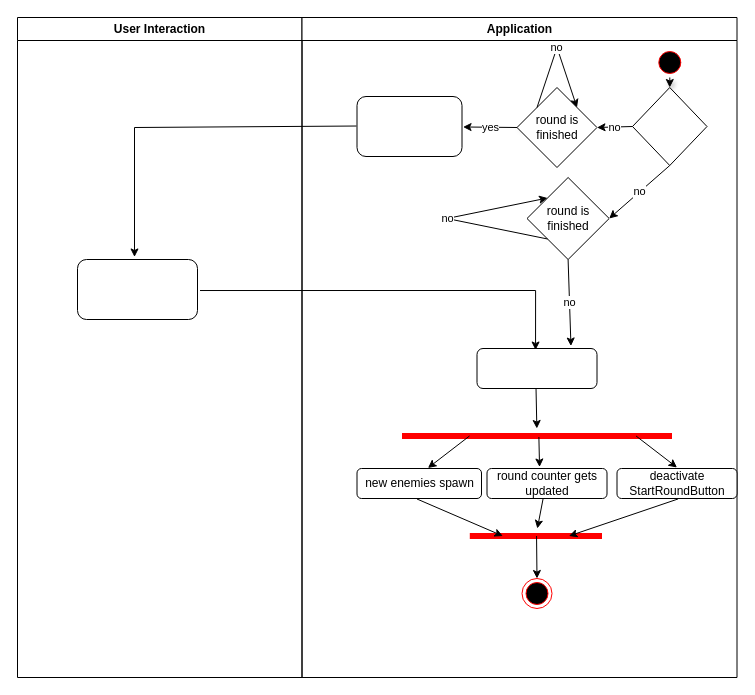
The diagram is 755 pixels wide and 695 high, and some of its shapes have lost their labels. Each missing label, with the centre of its shape:
"activate StartRoundButton" goes at point 409,126.
"Clicks on Start Round Button" goes at point 137,289.
"isAutoStart?" goes at point 669,126.
"runs next round method" goes at point 536,368.
